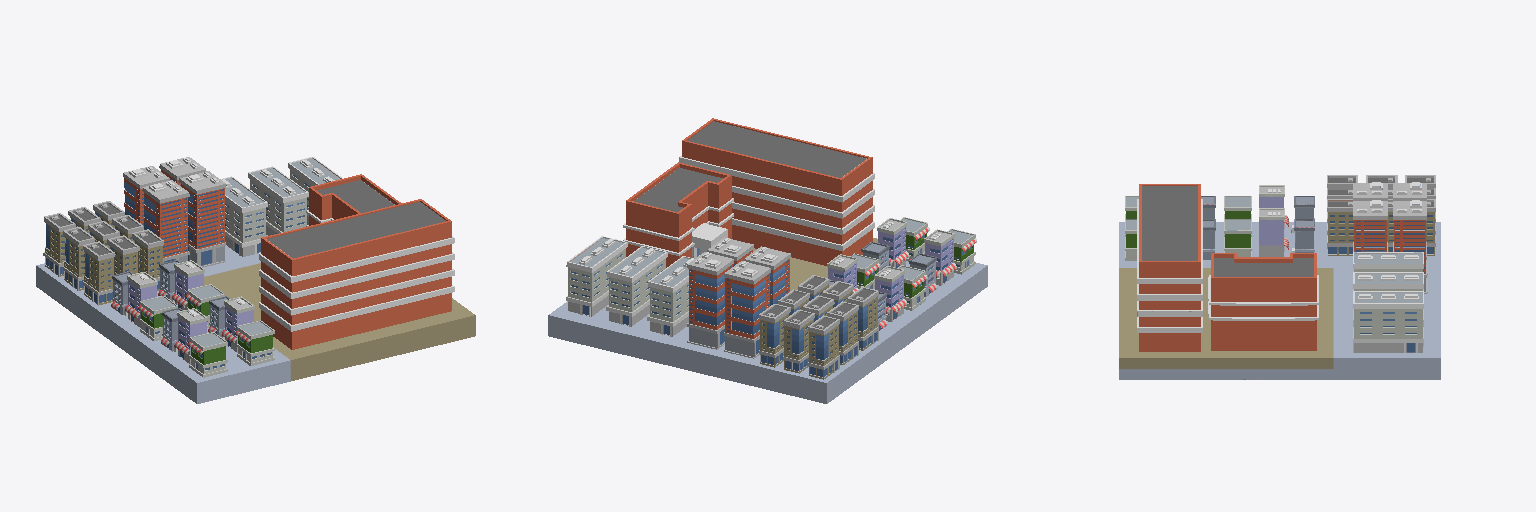
3 views of the same model, side by side, from view 1: azimuth 30°, elevation 25°; view 2: azimuth 150°, elevation 25°; view 3: azimuth 270°, elevation 25° (orthographic).
Parts seen in each view (by area): view 1: Object132; view 2: Object132; view 3: Object132.
Part boxes in pixels (x1,y1,x2,y2): Object132: (36, 157, 475, 403); Object132: (548, 118, 987, 403); Object132: (1119, 175, 1440, 379).
Size of the model in its own units: 2252 by 858 by 2252.
1 materials, 1 textured.